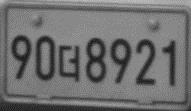0: (34, 34, 56, 80)
1: (160, 38, 177, 87)
2: (134, 38, 156, 86)
8: (85, 37, 106, 83)
9: (109, 37, 132, 84), (9, 35, 33, 80)
더: (56, 43, 80, 83)
